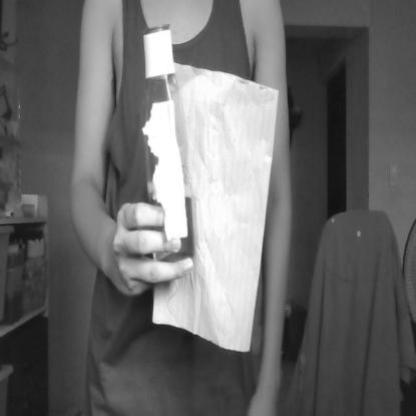Plastic Bottle: (141, 27, 191, 280)
